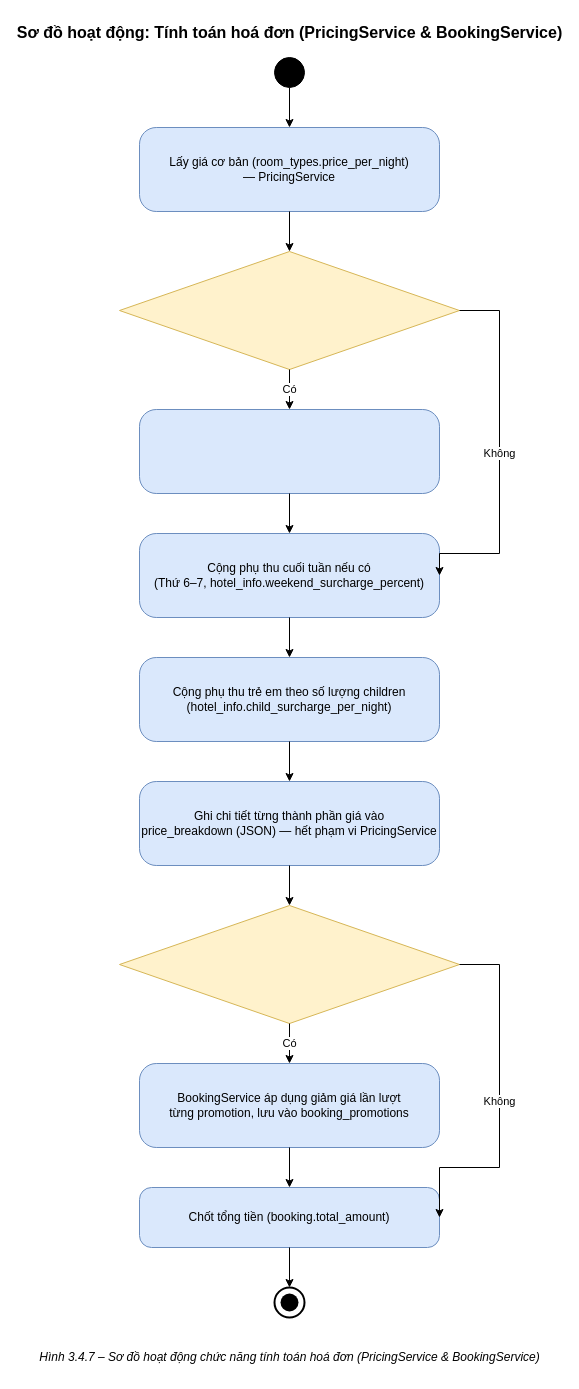
Some shapes in this 579 by 1389 pixel diagram are drawn without their labels. The shapes that lost their labels are listed below. From the top down, each one's centre as x and y in pixels, then its label:
At (x=289, y=310): "Có seasonal_rate áp dụng cho khoảng ngày này?".
At (x=289, y=451): "Cộng/trừ % phụ thu theo mùa (SeasonalRateService)".
At (x=289, y=964): "Khách có mã khuyến mãi hợp lệ? (PromotionService::findValidManyByCodes)".
